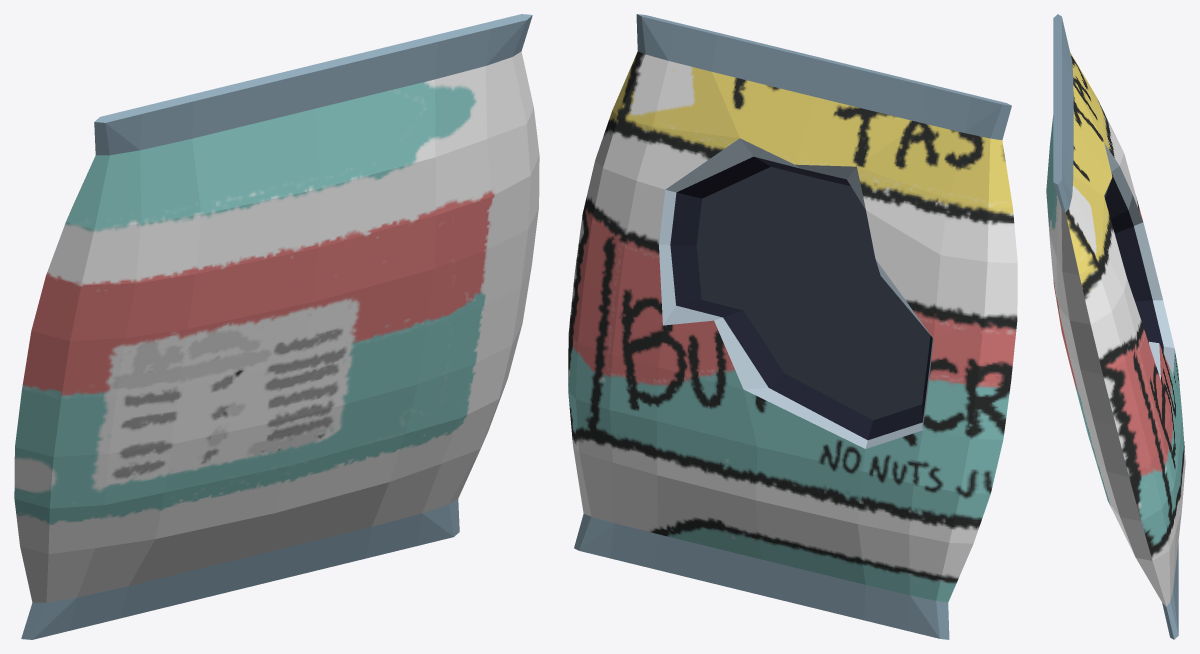
File: JunkWrapper.Poofer.fbx
The picture shows the model from 3 angles, left to right: view 1: azimuth 30°, elevation 25°; view 2: azimuth 150°, elevation 25°; view 3: azimuth 270°, elevation 25°; orthographic projection. The views are drawn at different scales.
Parts seen in each view (by area): view 1: JunkWrapper.Poofer; view 2: JunkWrapper.Poofer; view 3: JunkWrapper.Poofer.
Boxes of the visible parts, x1,y1,x2,y2 form: JunkWrapper.Poofer: (14,14,539,639); JunkWrapper.Poofer: (568,14,1017,639); JunkWrapper.Poofer: (1046,14,1185,639).
Size of the model in its own units: 116 by 125 by 34.44.
